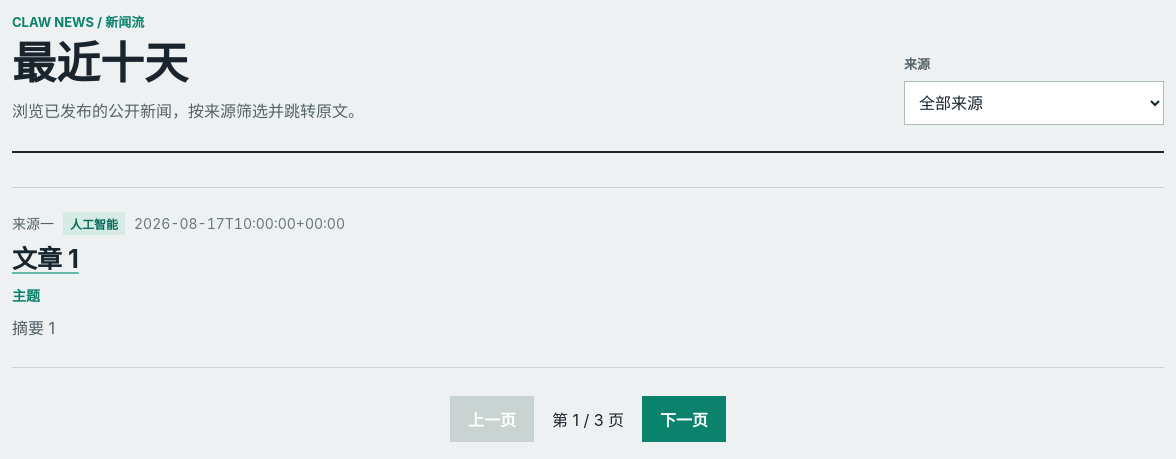
Test: ArticlesPage › resets page on each source change and sends the stable source name
Select "来源二" in the dropdown labelled "来源": (1034, 103) [904, 81, 1164, 125]
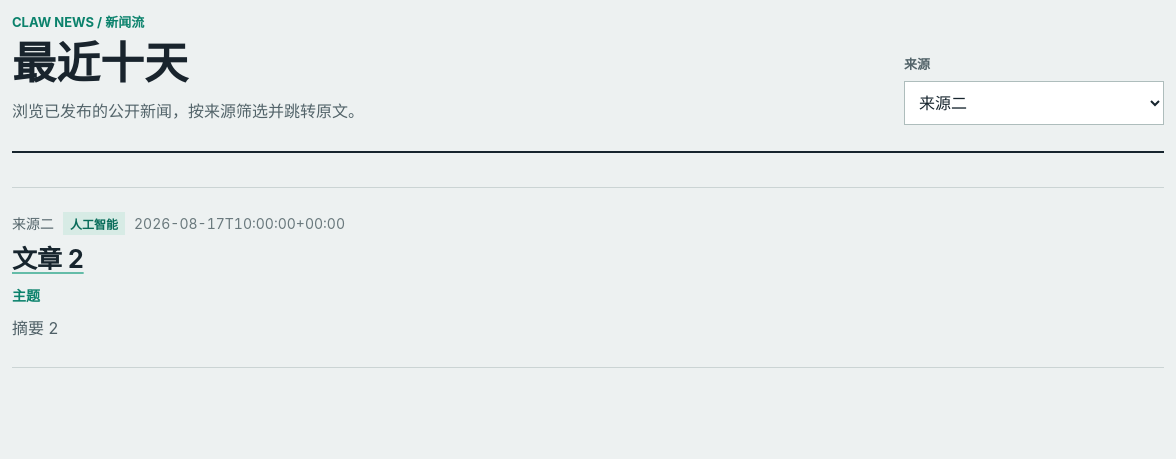
Check: the text "文章 2" is shown, box [12, 244, 84, 274]
